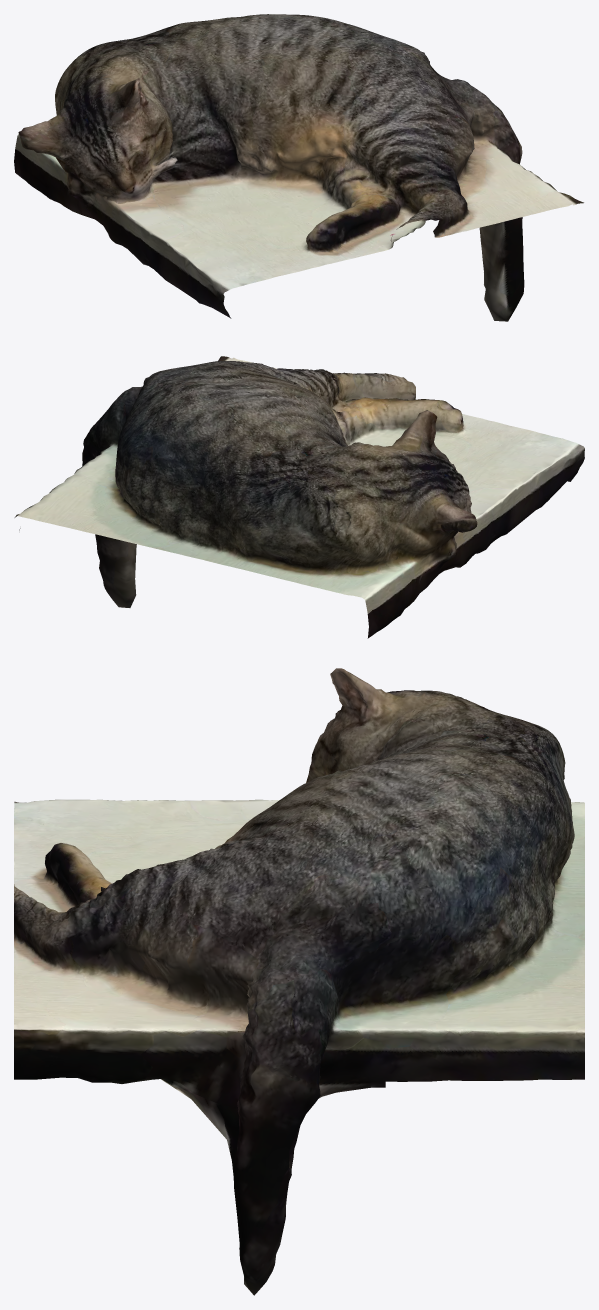
The model's file is sleeping_cat_on_the_table_-_3d_scan.glb.
The picture shows the model from 3 angles, top to bottom: view 1: azimuth 30°, elevation 25°; view 2: azimuth 150°, elevation 25°; view 3: azimuth 270°, elevation 25°; orthographic projection. The views are drawn at different scales.
Visible parts, largest first — view 1: Object_4; view 2: Object_4; view 3: Object_4.
Boxes of the visible parts, <box> form: Object_4: <box>14,14,583,321</box>; Object_4: <box>14,356,584,638</box>; Object_4: <box>14,668,584,1295</box>.
Size of the model in its own units: 0.525 by 0.3434 by 0.4384.
Materials: 1 (1 with a texture image).
